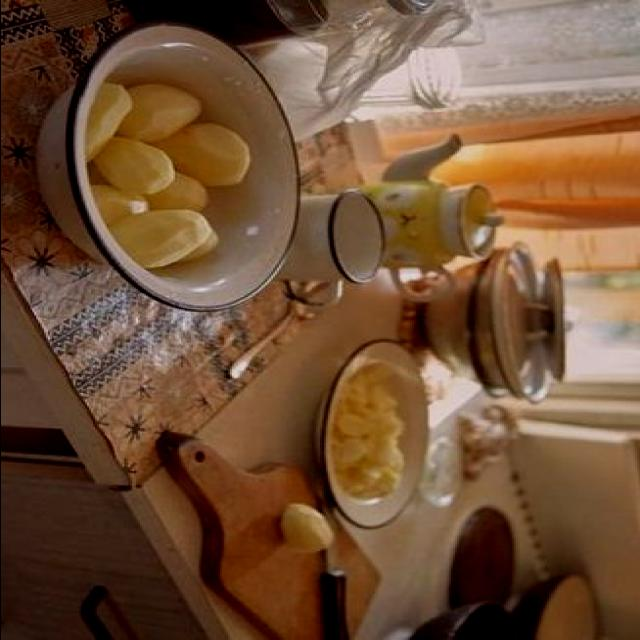kentang rebus: (102, 201, 217, 271), (145, 122, 249, 189)
